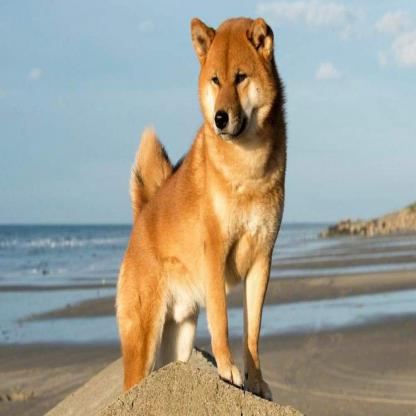Siba-ny: (115, 15, 288, 400)
